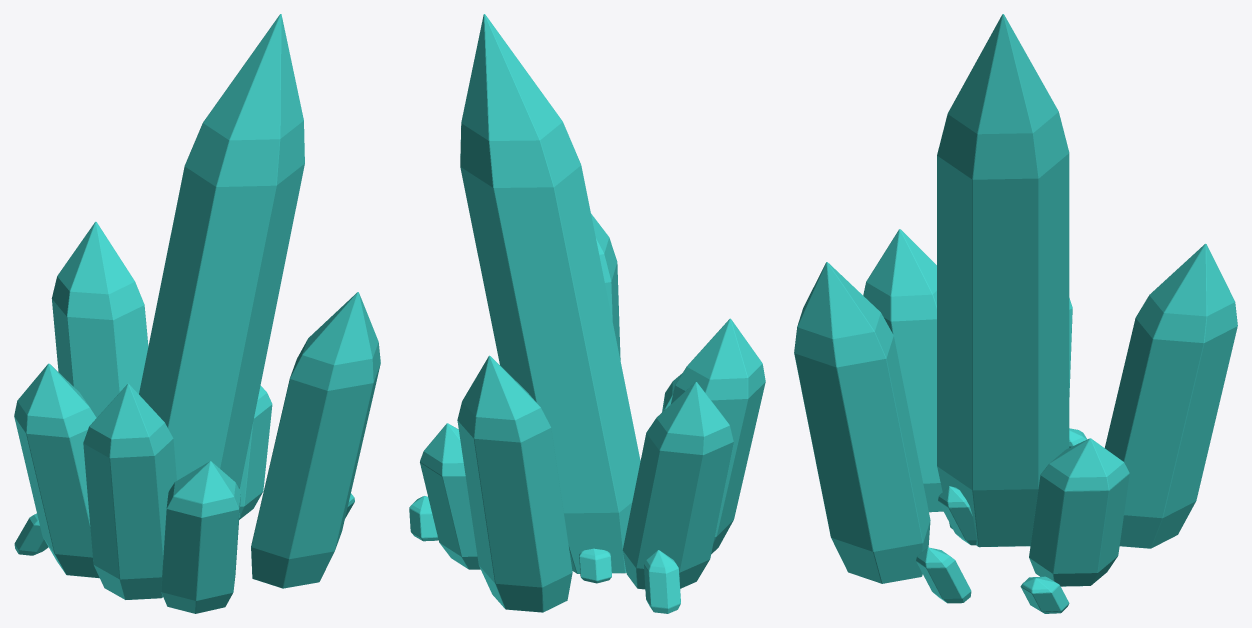
File: rock-candy-cluster.glb
3 views of the same model, side by side, from view 1: azimuth 30°, elevation 25°; view 2: azimuth 150°, elevation 25°; view 3: azimuth 270°, elevation 25° (orthographic). The views are drawn at different scales.
Visible parts, largest first — view 1: rock-candy-cluster; view 2: rock-candy-cluster; view 3: rock-candy-cluster.
Part boxes in pixels (x1=…): rock-candy-cluster: x1=14, y1=14, x2=380, y2=613; rock-candy-cluster: x1=409, y1=14, x2=765, y2=613; rock-candy-cluster: x1=794, y1=14, x2=1237, y2=613.
Size of the model in its own units: 1.63 by 2.6 by 1.82.
